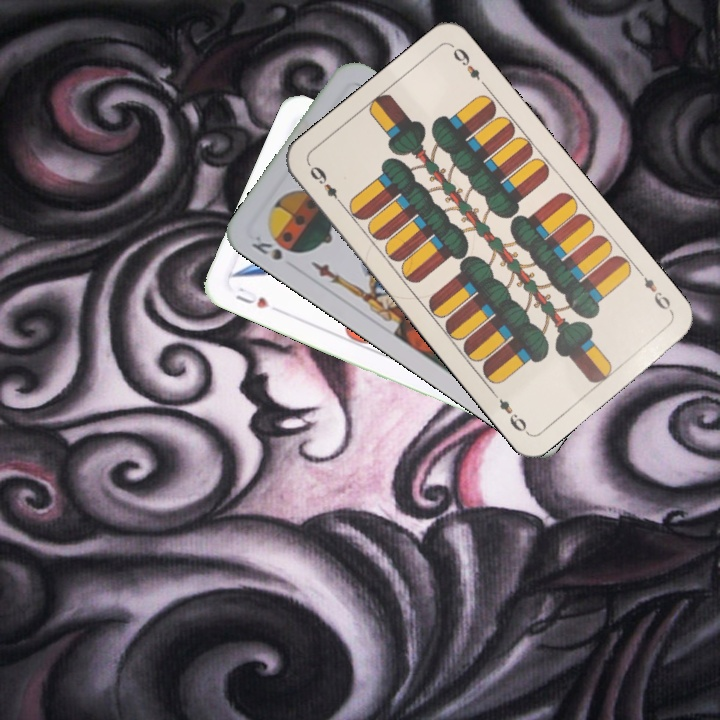E9: (305, 160, 347, 210), (634, 266, 676, 316)
HU: (231, 282, 272, 311)
SK: (247, 231, 285, 263)
